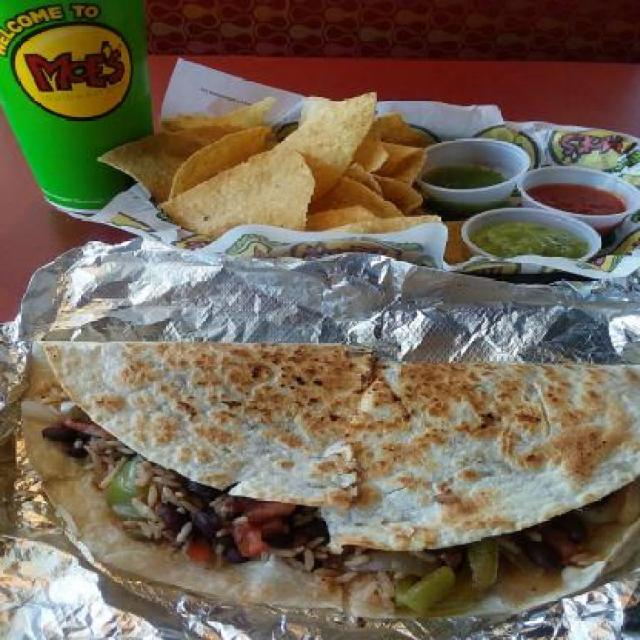chicken quesadilla: (7, 320, 639, 623)
guacamole: (472, 208, 597, 272)
nachos: (91, 86, 472, 265)
